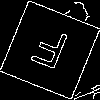F: (25, 25, 71, 80)
